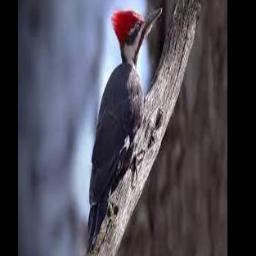Woodpecker: (87, 7, 162, 250)
